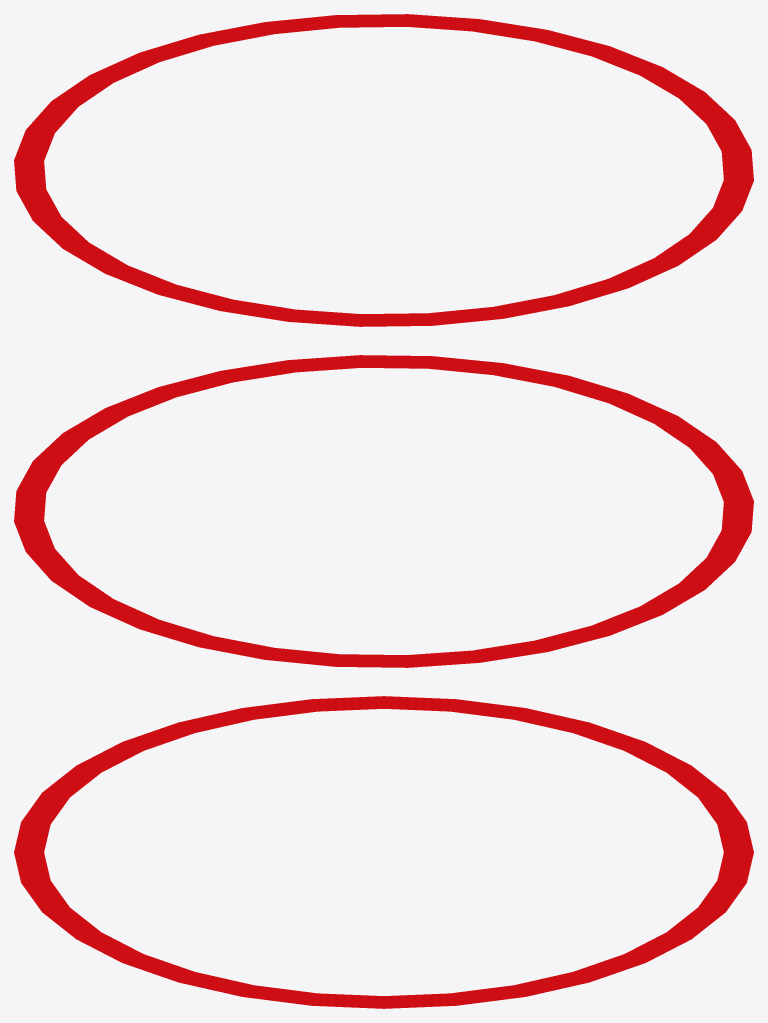
File: circleRed.fbx
3 renders of one model, top to bottom at view 1: azimuth 30°, elevation 25°; view 2: azimuth 150°, elevation 25°; view 3: azimuth 270°, elevation 25°, orthographic.
Visible parts, largest first — view 1: Circle; view 2: Circle; view 3: Circle.
Boxes of the visible parts, box(x1,y1,x2,y2) form: Circle: box(14, 14, 753, 326); Circle: box(14, 355, 753, 667); Circle: box(14, 696, 753, 1008).
Size of the model in its own units: 195 by 3.18e-05 by 195.
